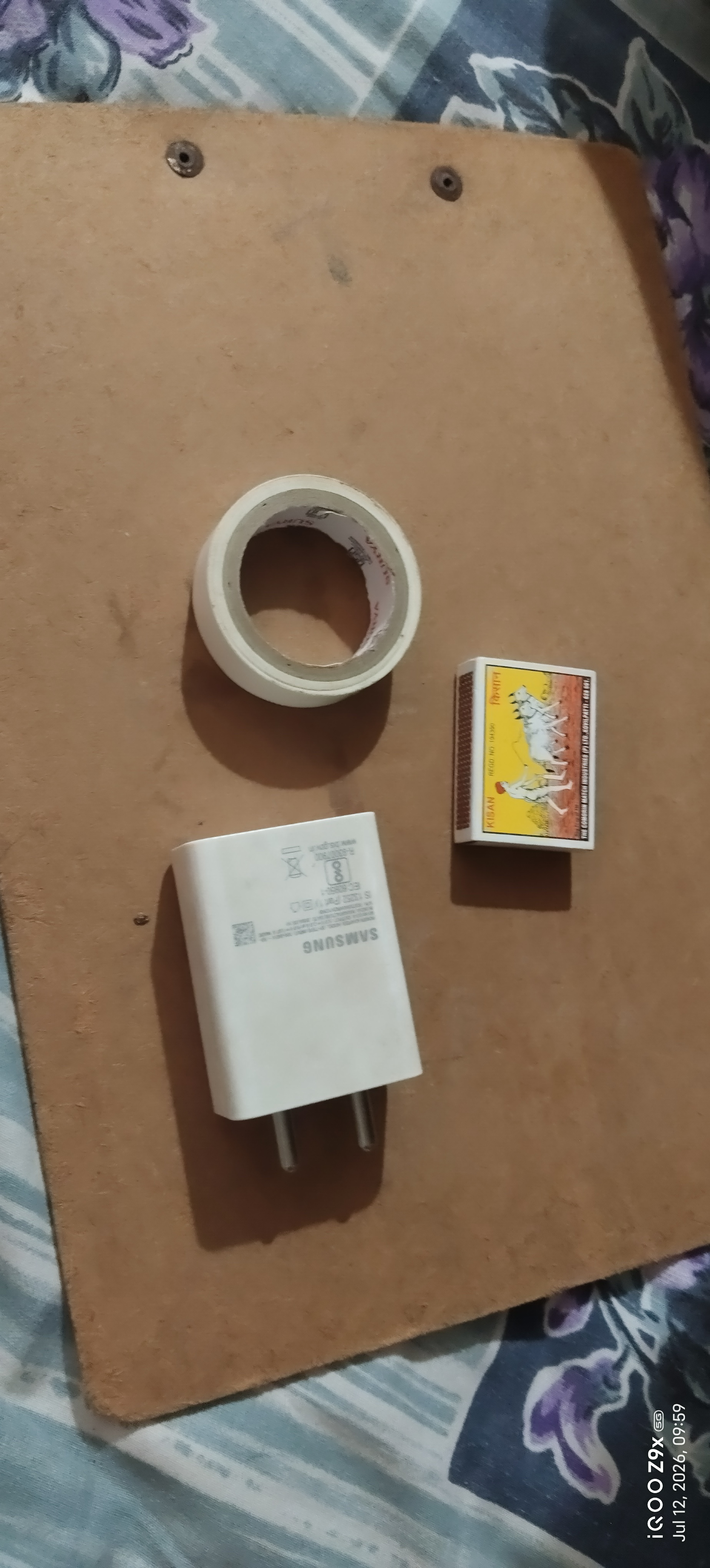charger: (147, 806, 436, 1199)
matchbox: (440, 637, 616, 876)
tape_roll: (178, 462, 436, 721)
